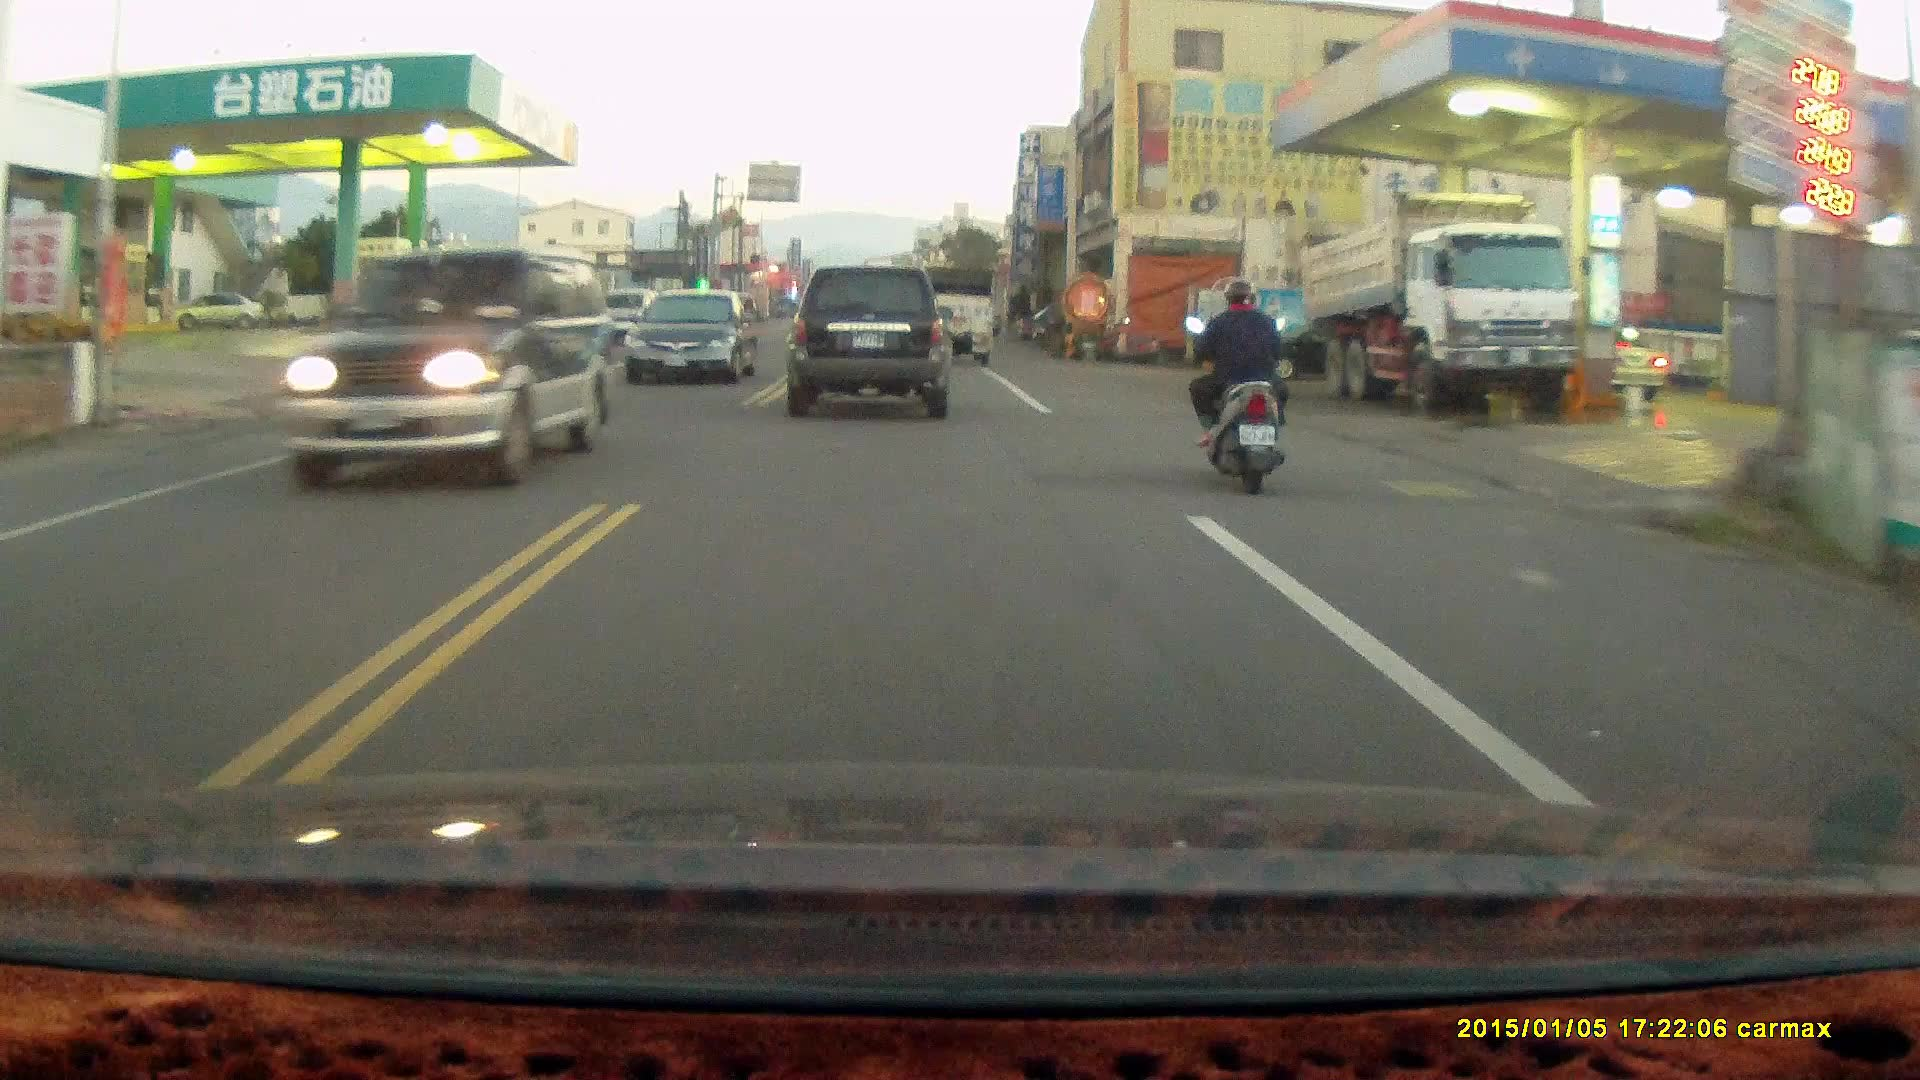rider: (1183, 272, 1290, 491)
vehicle: (277, 244, 623, 487), (1297, 186, 1581, 411), (792, 262, 954, 419), (626, 290, 765, 390), (901, 252, 994, 350)
